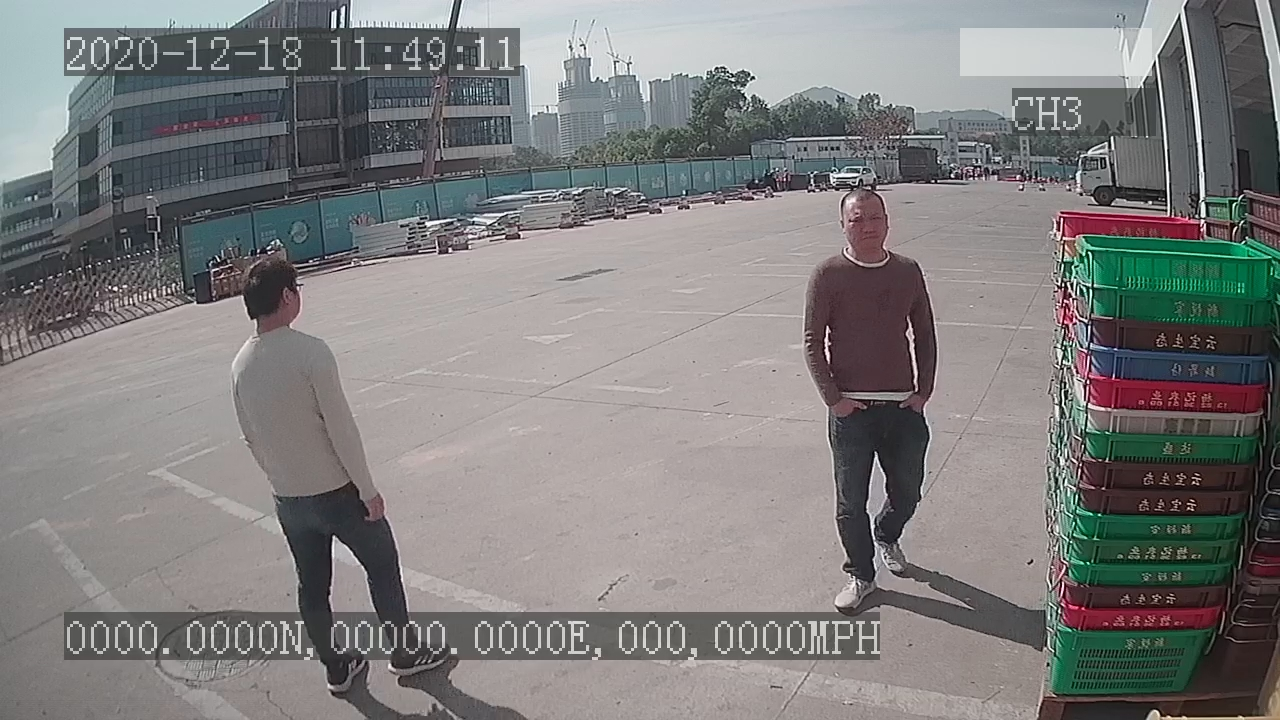person: (797, 183, 938, 610)
